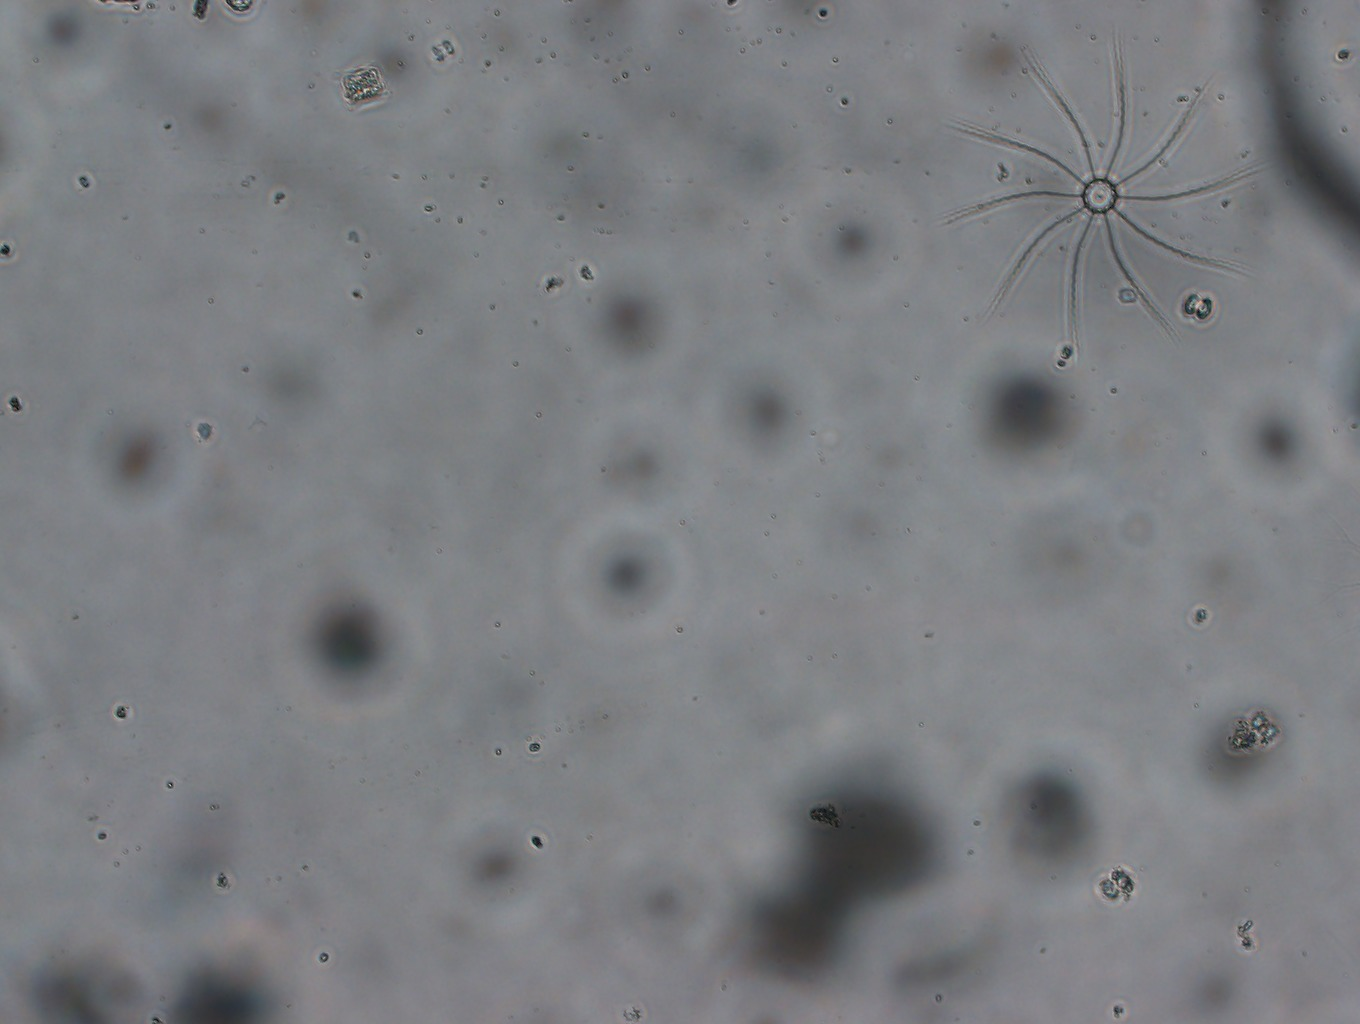bacteriastrum: (936, 19, 1269, 362)
